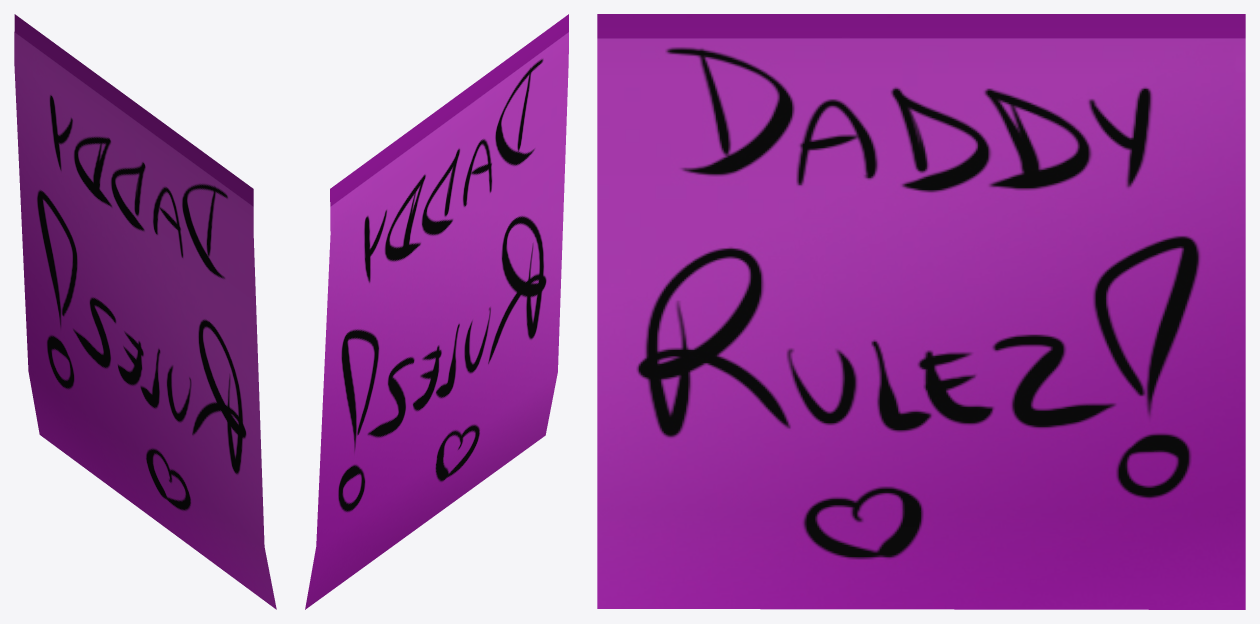
Rendered from Post-it_5.fbx.
3 renders of one model, left to right at view 1: azimuth 30°, elevation 25°; view 2: azimuth 150°, elevation 25°; view 3: azimuth 270°, elevation 25°, orthographic. The views are drawn at different scales.
Parts seen in each view (by area): view 1: pPlane13; view 2: pPlane13; view 3: pPlane13.
Boxes of the visible parts, x1,y1,x2,y2 form: pPlane13: [14, 14, 276, 609]; pPlane13: [305, 14, 568, 609]; pPlane13: [597, 14, 1245, 609].
Bounding box in the file's own units: 0.6166 × 9.86 × 10.
